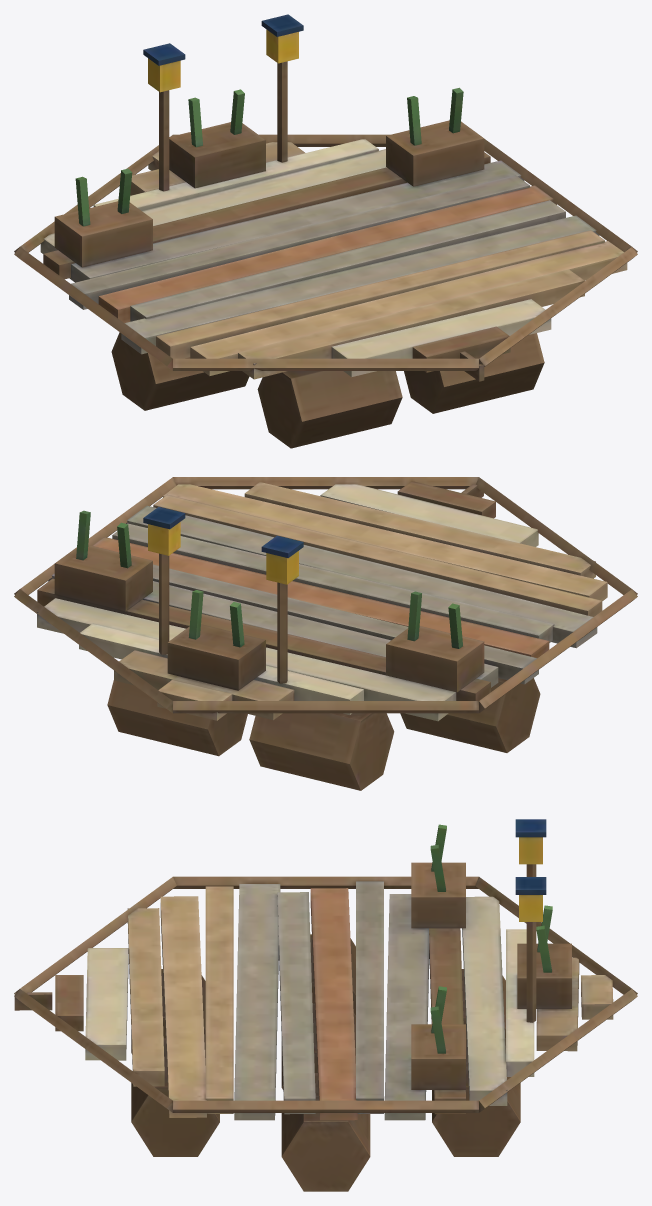
The model's file is raft-c-age1-lite.glb.
The picture shows the model from 3 angles, top to bottom: view 1: azimuth 30°, elevation 25°; view 2: azimuth 150°, elevation 25°; view 3: azimuth 270°, elevation 25°; orthographic projection.
Parts seen in each view (by area): view 1: raft-c-age1-lite; view 2: raft-c-age1-lite; view 3: raft-c-age1-lite.
Boxes of the visible parts, box(x1,y1,x2,y2) form: raft-c-age1-lite: box(14, 14, 637, 448); raft-c-age1-lite: box(14, 477, 637, 790); raft-c-age1-lite: box(14, 819, 637, 1191).
Bounding box in the file's own units: 1.59 × 0.7856 × 1.83.
1 material, 1 textured.
